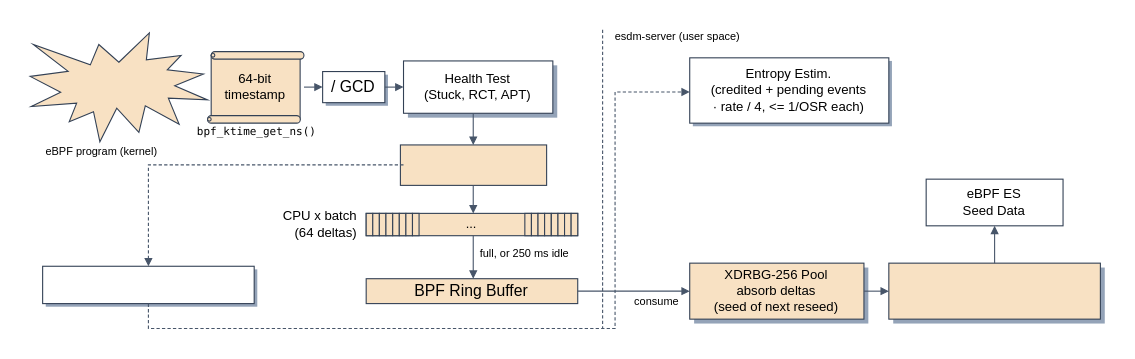
This 1135x359 diagram has some shape labels left out. Here are the shapes that lost their labels. From the top down, the centre of each, then its label:
[118,86]: sched_switch / irq_handler_entry
[472,164]: delta d = t - t_prev (64 bits)
[147,284]: Per-CPU State Map (health state, delta count)
[993,290]: Extract: reseed + generate alpha = "ESDM eBPF pool " || name
